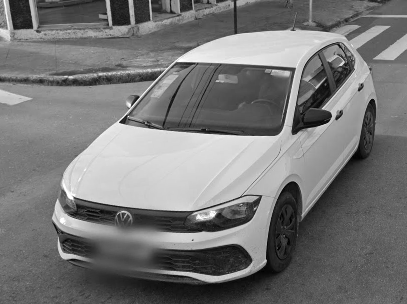car: (51, 30, 378, 283)
